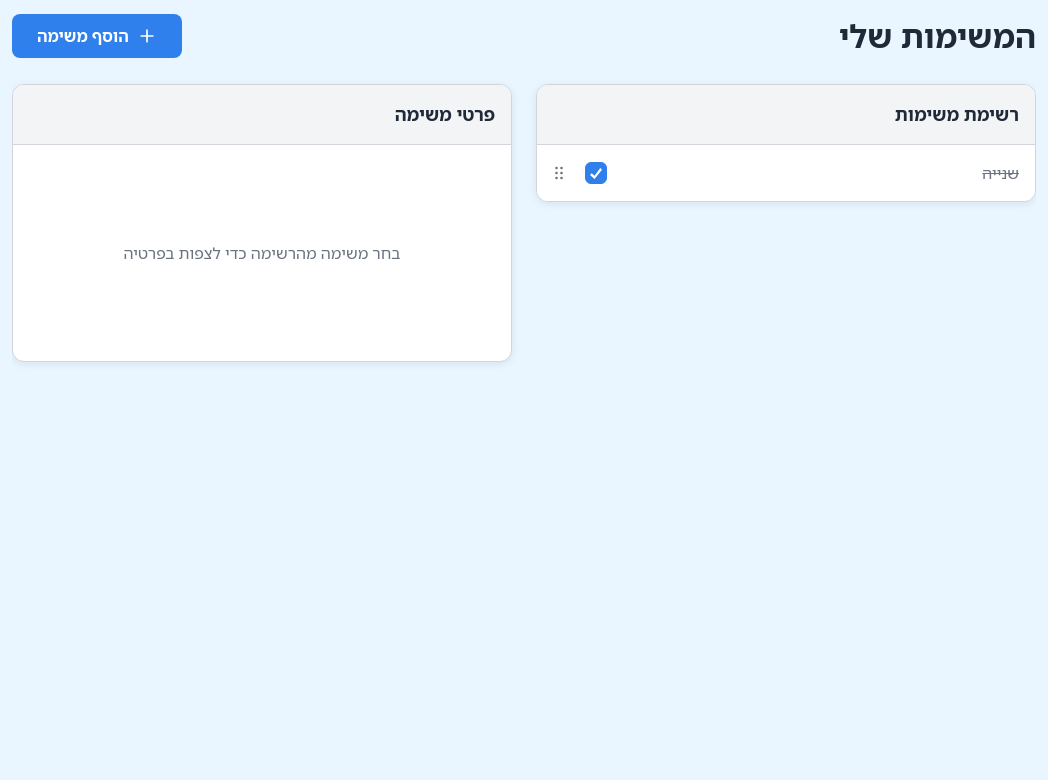
Scenario: HomePage – edit task details › a server error keeps the draft and allows a retry
Click the button "שנייה" at x=1001, y=173, box [615,145,1035,201]
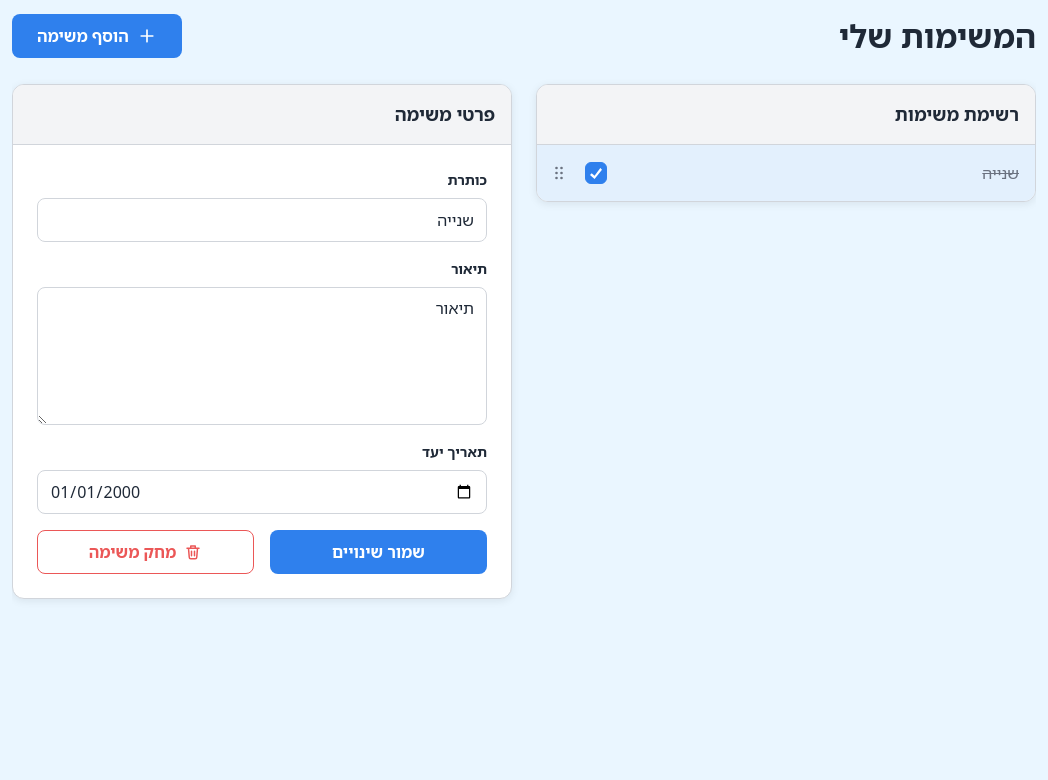
Replace the text in the text box labelled "תיאור" with "טיוטה" at x=262, y=356, box [37,287,487,425]
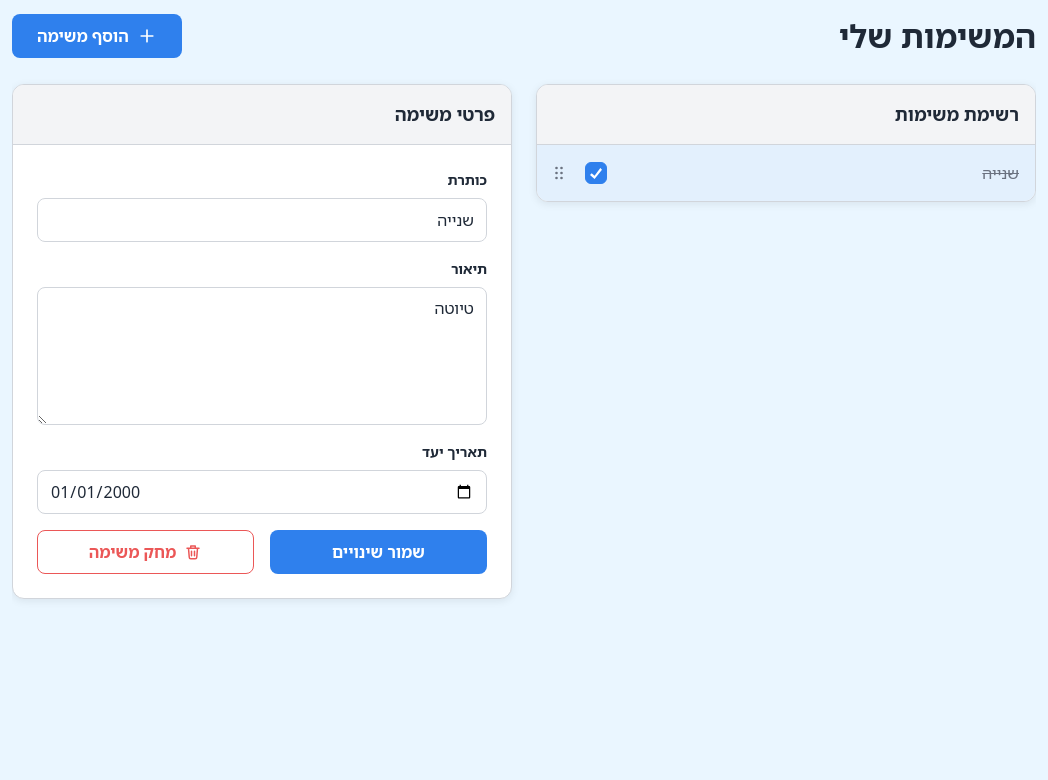
Click the button "שמור שינויים" at x=378, y=552, box [270,530,487,574]
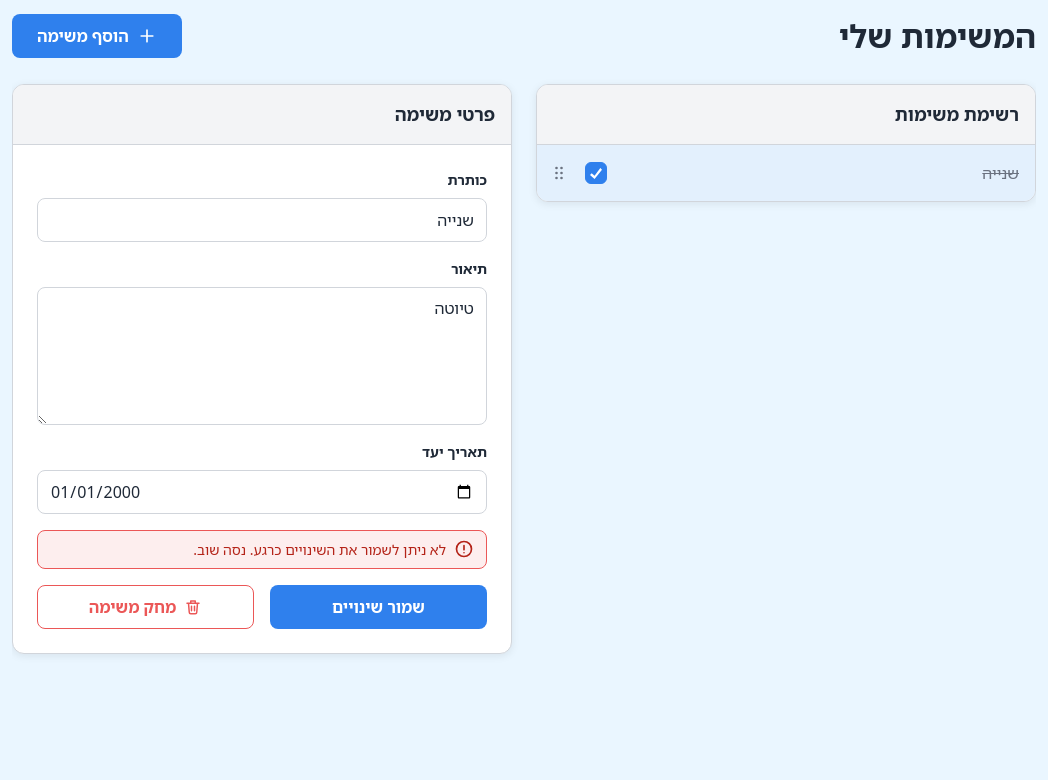
Expected: the message shows "לא ניתן לשמור את השינויים", [193,540,446,559]
Click the button "שמור שינויים" at x=378, y=607, box [270,585,487,629]
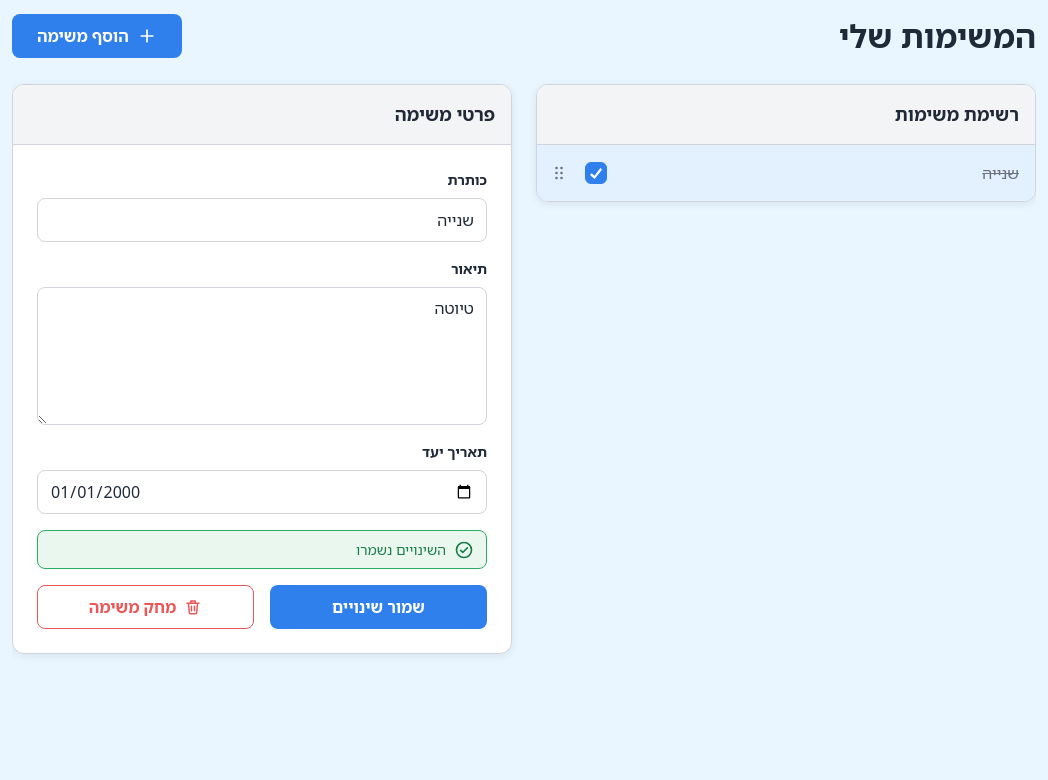
Expected: the message reads "השינויים נשמרו", [356,540,446,559]
